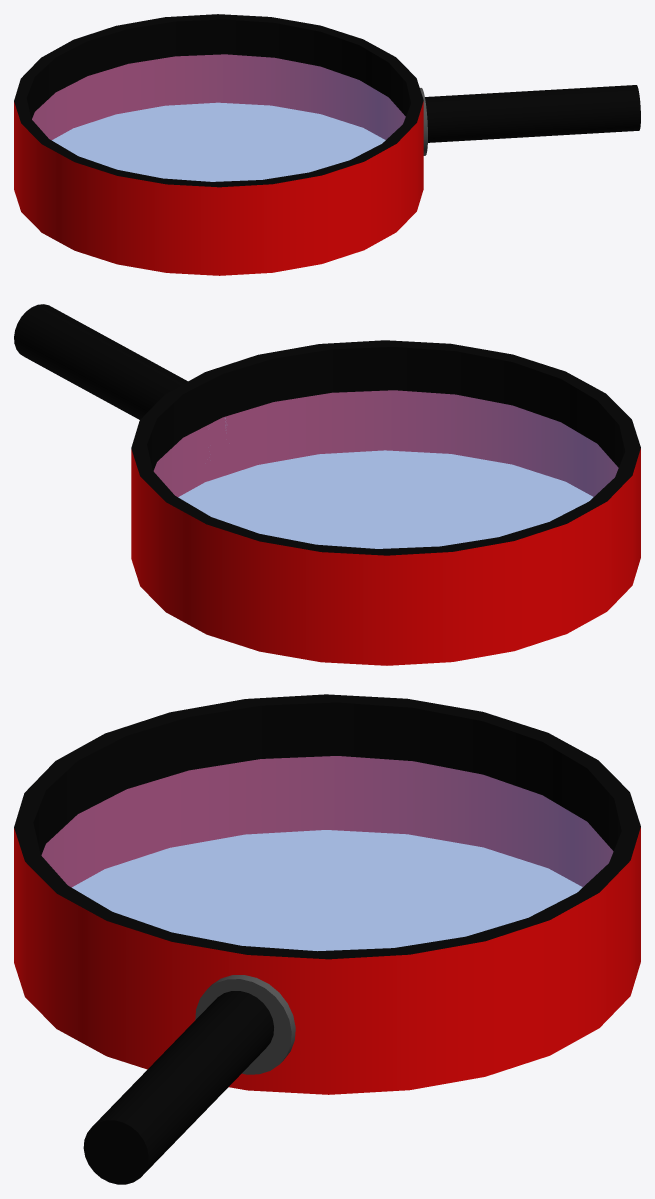
Rendered from saucepan.dae.
3 views of the same model, one above another, from view 1: azimuth 30°, elevation 25°; view 2: azimuth 150°, elevation 25°; view 3: azimuth 270°, elevation 25° (orthographic). The views are drawn at different scales.
Visible parts, largest first — view 1: Model; view 2: Model; view 3: Model.
Boxes of the visible parts, box(x1,y1,x2,y2) form: Model: box(14, 14, 640, 275); Model: box(14, 304, 640, 665); Model: box(14, 694, 640, 1184).
Bounding box in the file's own units: 490 × 325 × 77.5.
